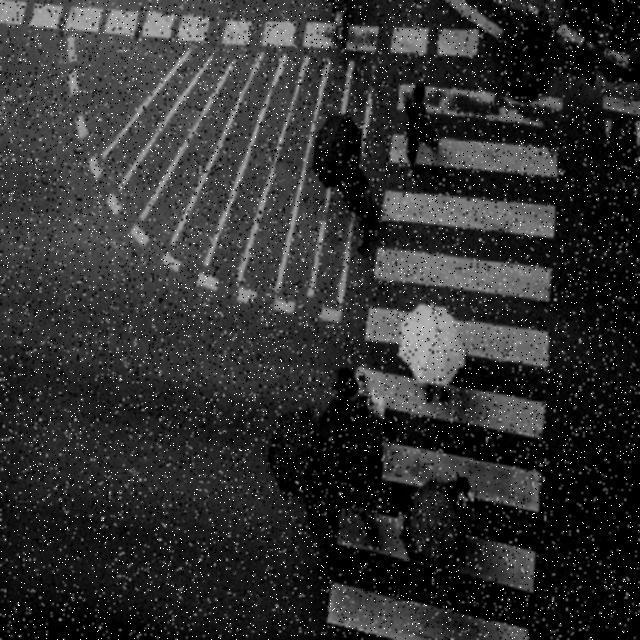Pedestrian crosswalk: (290, 59, 576, 638)
